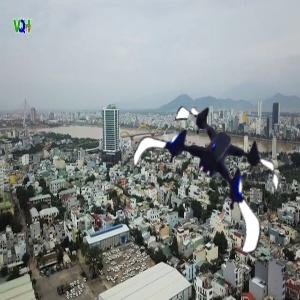drone: (131, 90, 286, 245)
